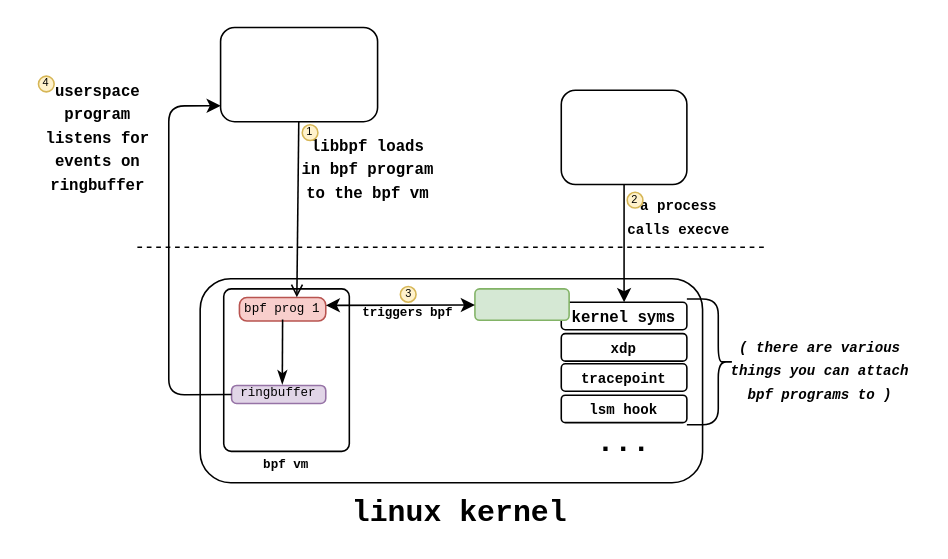
The diagram is 948 pixels wide and 559 high, and some of its shapes have lost their labels. Each missing label, with the centre of its shape:
"kprobe:execve" goes at (x=521, y=303).
"userspace process" goes at (x=623, y=136).
"userspace process using libbpf" goes at (x=298, y=74).
